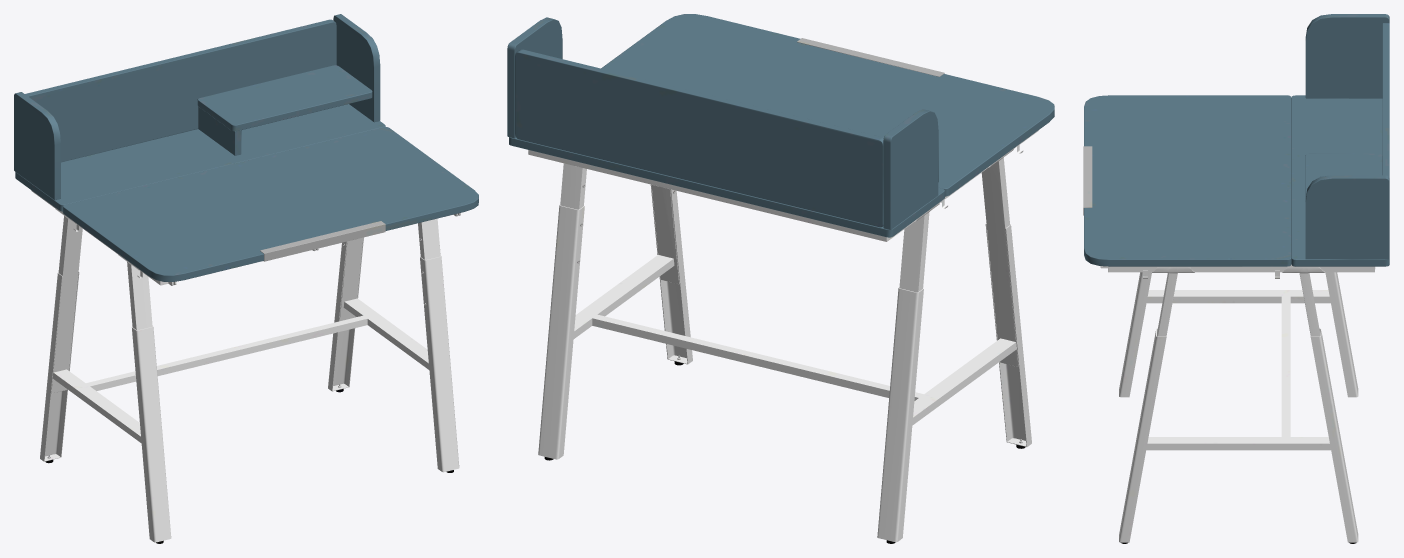
The model's file is piplarka_biurko_20579943.glb.
The picture shows the model from 3 angles, left to right: view 1: azimuth 30°, elevation 25°; view 2: azimuth 150°, elevation 25°; view 3: azimuth 270°, elevation 25°; orthographic projection. The views are drawn at different scales.
Parts seen in each view (by area): view 1: piplarka_biurko_20579943; view 2: piplarka_biurko_20579943; view 3: piplarka_biurko_20579943.
Part boxes in pixels (bbox=[...]): piplarka_biurko_20579943: bbox=[14, 14, 478, 543]; piplarka_biurko_20579943: bbox=[507, 14, 1054, 543]; piplarka_biurko_20579943: bbox=[1083, 14, 1389, 543].
Bounding box in the file's own units: 0.8 × 0.8459 × 0.63.
Materials: 1 (1 with a texture image).
